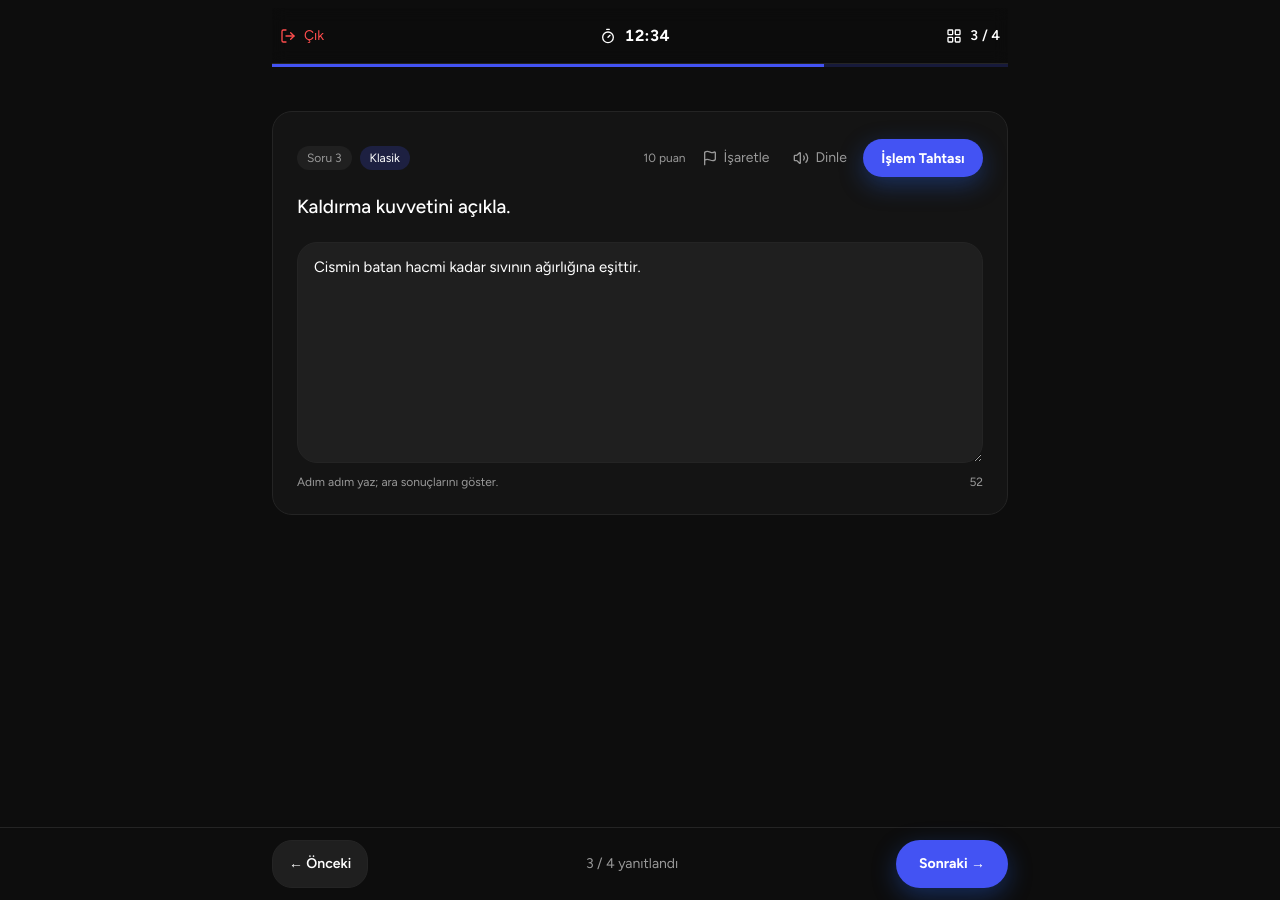
Test case: yazılı deneme · Fizik: yenilenince aynı soru, aynı cevaplar, aynı süre › bu cihazın taslağı sunucudan yeniyse cevaplar ve soru taslaktan, süre sunucudan; fark hemen kaydedilir
Expected: the button named "Soru haritasını aç" reads "3 / 4", x1=938 y1=14 x2=1008 y2=58
Expected: the text box with placeholder "Cevabını yaz" holds "Cismin batan hacmi kadar sıvının ağırlığına eşittir.", x1=297 y1=242 x2=983 y2=463
# Önceki soruya dönüş taslağa hemen yazılır.
Click the button "← Önceki" at (320, 864), box x1=272 y1=840 x2=368 y2=888
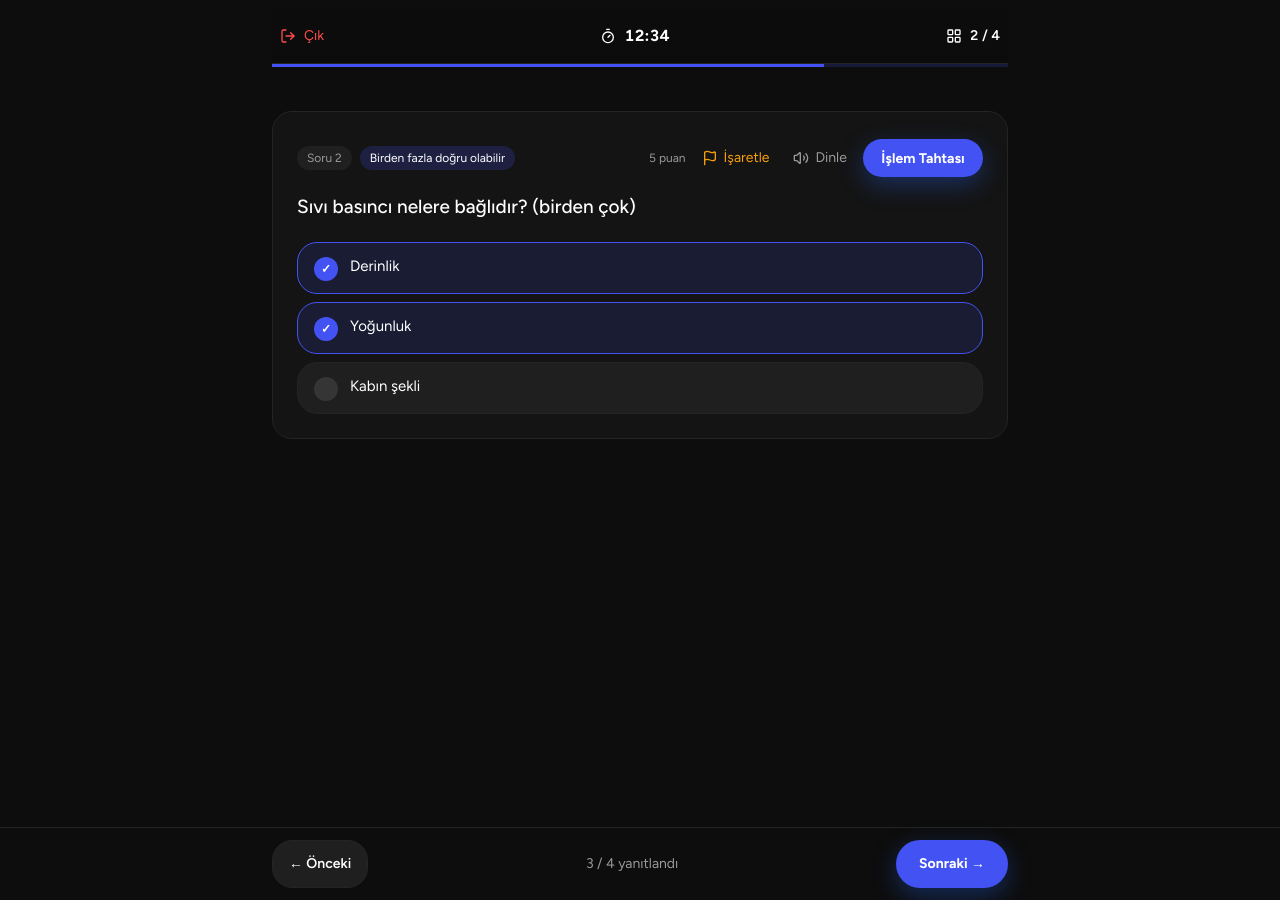
Result: the button named "Soru haritasını aç" reads "2 / 4" at x1=938 y1=14 x2=1008 y2=58
